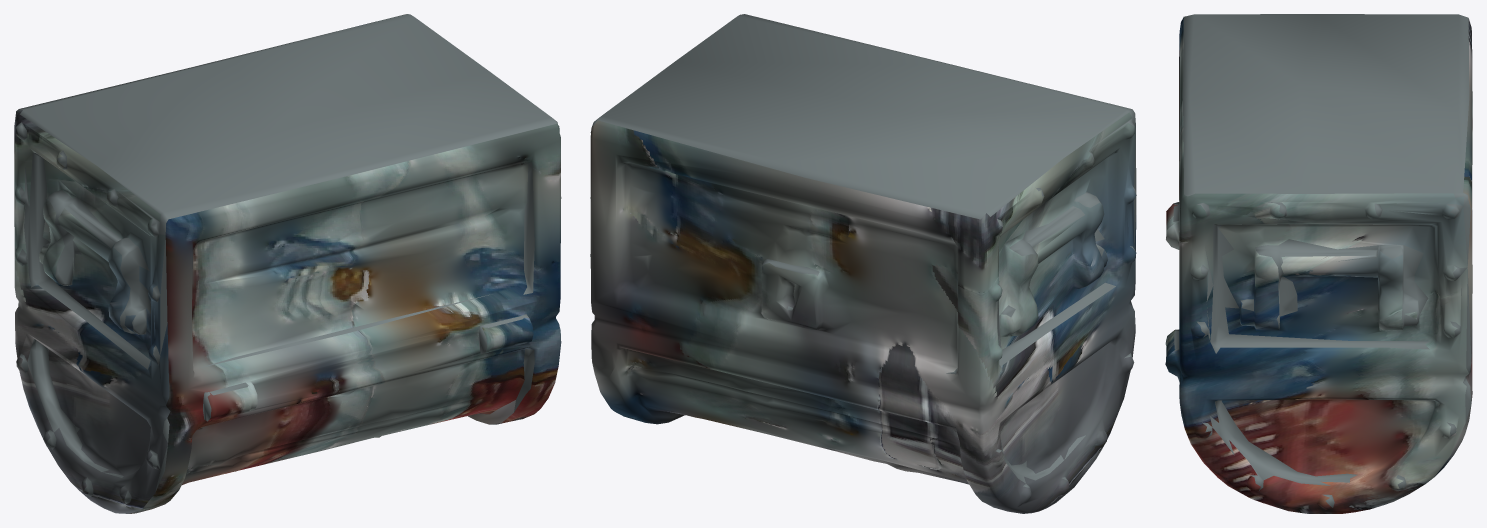
Rendered from chest.obj.
3 renders of one model, left to right at view 1: azimuth 30°, elevation 25°; view 2: azimuth 150°, elevation 25°; view 3: azimuth 270°, elevation 25°, orthographic. The views are drawn at different scales.
Bounding box in the file's own units: 3.87 × 3.08 × 2.66.
